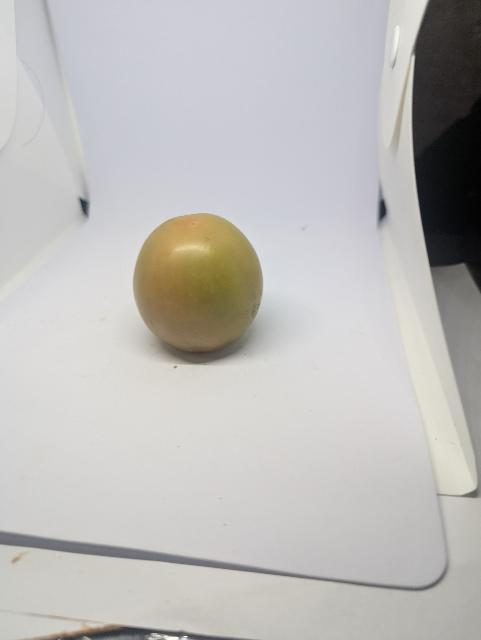breaker: (129, 210, 271, 355)
